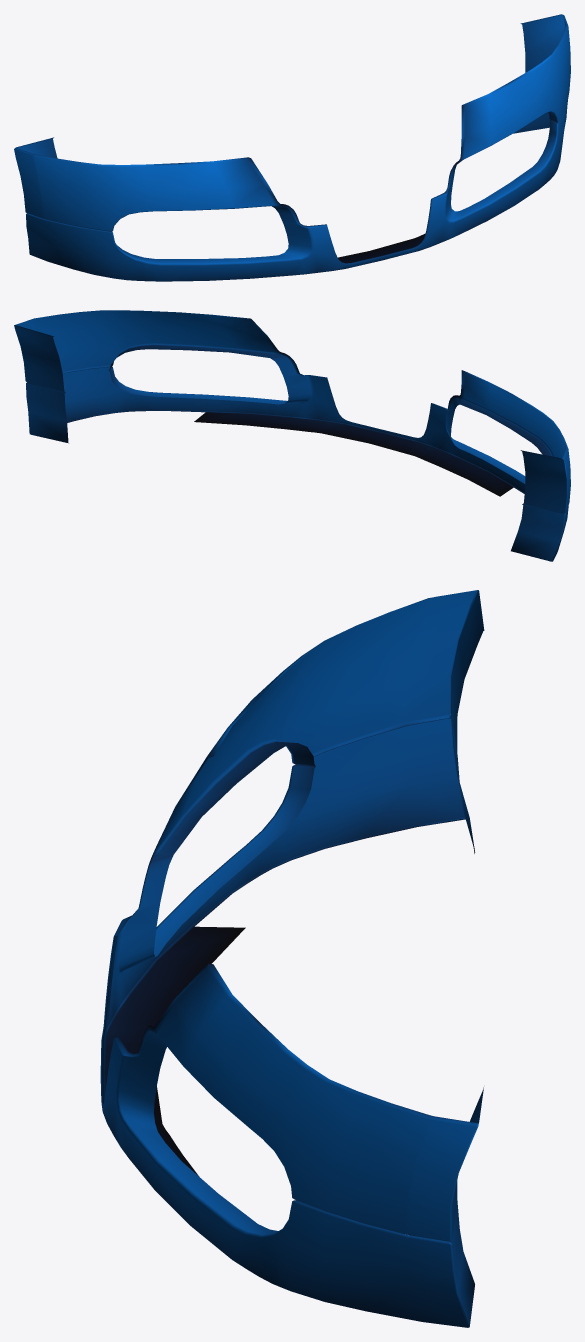
Rendered from Veyron_FB01_Duco.fbx.
3 renders of one model, top to bottom at view 1: azimuth 30°, elevation 25°; view 2: azimuth 150°, elevation 25°; view 3: azimuth 270°, elevation 25°, orthographic. The views are drawn at different scales.
Parts seen in each view (by area): view 1: Veyron_FB01_Duco; view 2: Veyron_FB01_Duco; view 3: Veyron_FB01_Duco.
Boxes of the visible parts, left/top/right/bottom form: Veyron_FB01_Duco: left=14, top=14, right=570, bottom=281; Veyron_FB01_Duco: left=14, top=310, right=570, bottom=561; Veyron_FB01_Duco: left=100, top=590, right=484, bottom=1327.
Bounding box in the file's own units: 196 × 37.73 × 59.14.
